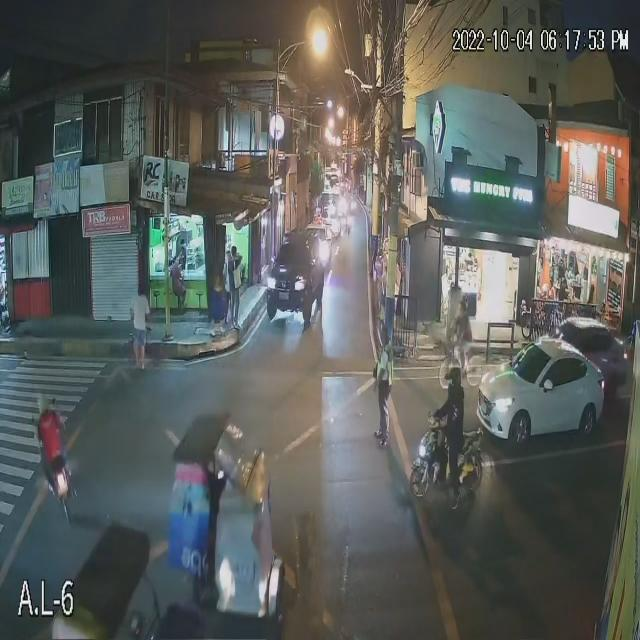helmet: (444, 376, 465, 394), (36, 400, 50, 415)
motorcycle: (413, 436, 483, 494), (34, 461, 92, 520)
rider: (438, 399, 460, 453), (38, 420, 60, 452)
